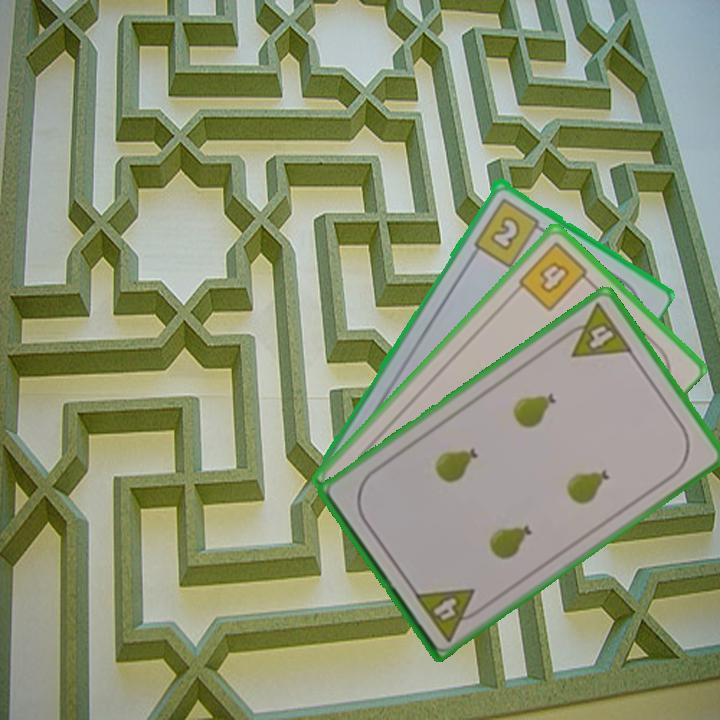2b: (470, 194, 549, 270)
4b: (514, 238, 596, 315)
4p: (556, 299, 636, 361), (410, 584, 488, 644)
